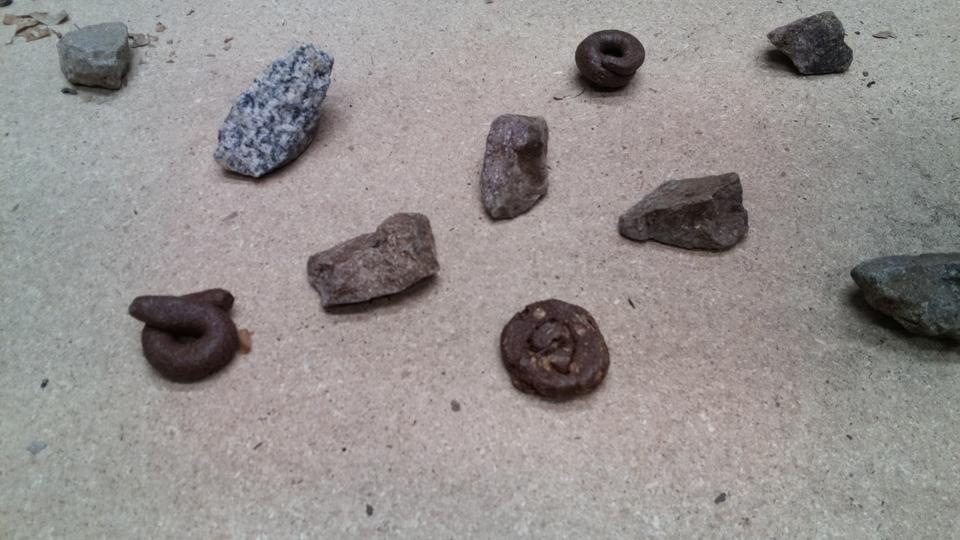poop: (720, 173, 848, 287), (375, 89, 470, 171), (254, 239, 346, 310)
